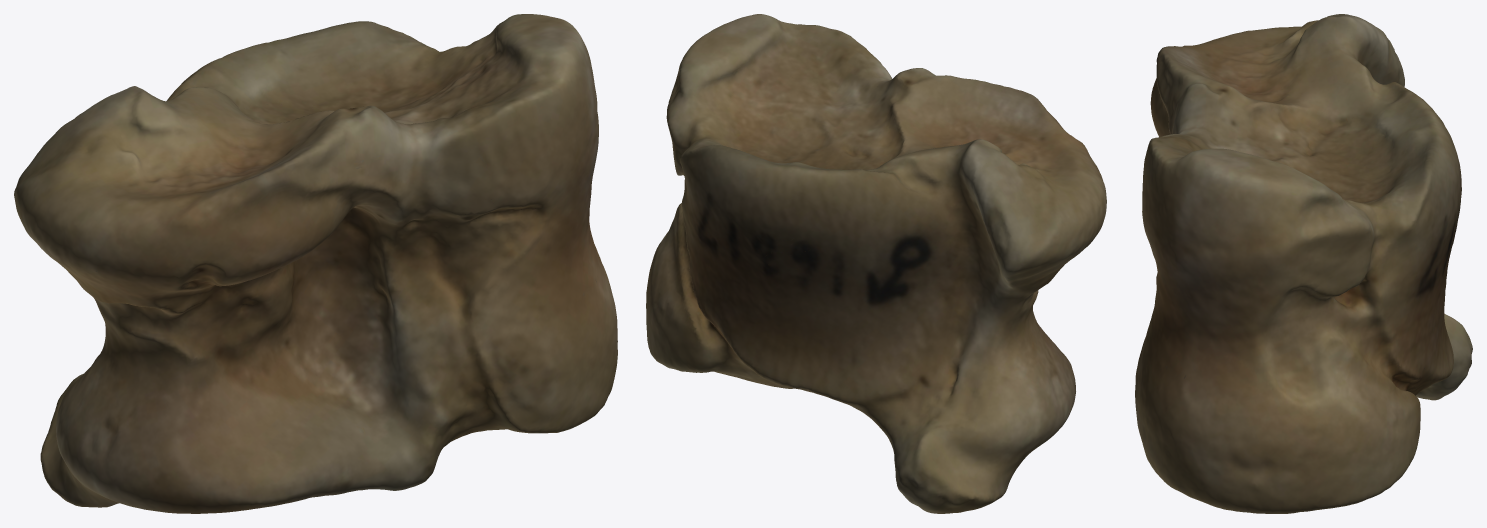
The picture shows the model from 3 angles, left to right: view 1: azimuth 30°, elevation 25°; view 2: azimuth 150°, elevation 25°; view 3: azimuth 270°, elevation 25°; orthographic projection. The views are drawn at different scales.
Parts seen in each view (by area): view 1: Node; view 2: Node; view 3: Node.
Part boxes in pixels (x1,y1,x2,y2): Node: (14,14,617,513); Node: (646,14,1106,513); Node: (1135,14,1472,513).
Size of the model in its own units: 27.58 by 21.35 by 16.5.
Materials: 1 (1 with a texture image).
